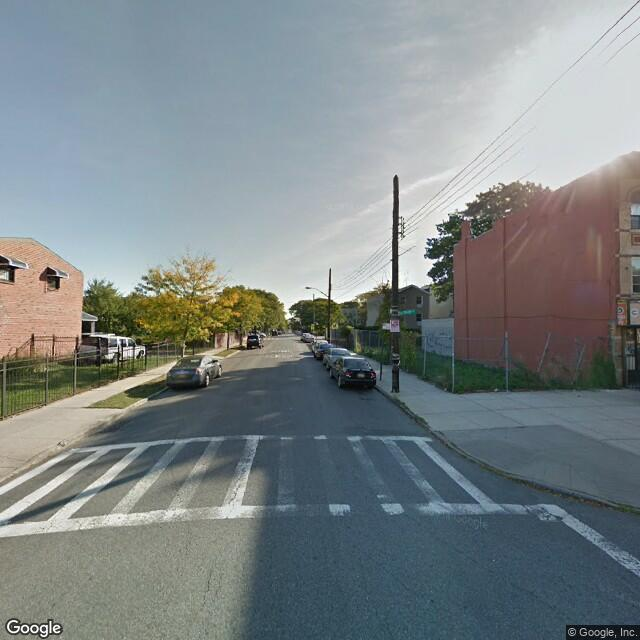litter: (492, 383, 503, 393), (443, 384, 449, 393)
